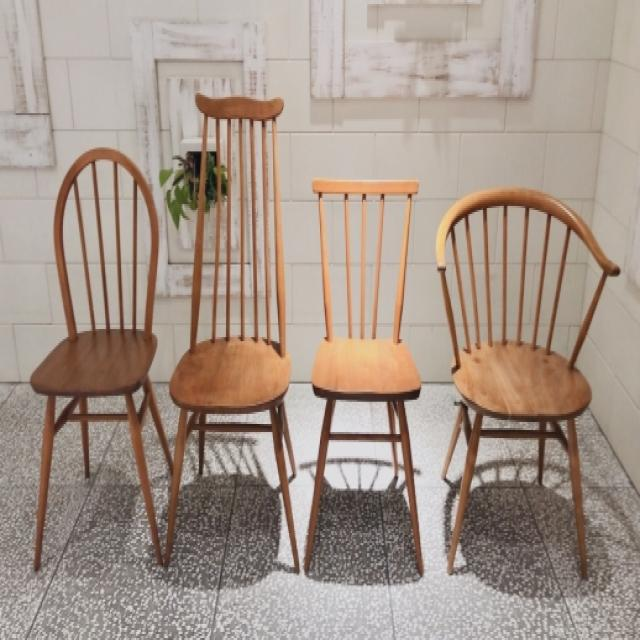chair vintage: (432, 179, 622, 577), (166, 87, 302, 587), (26, 139, 167, 577), (305, 174, 424, 590)
